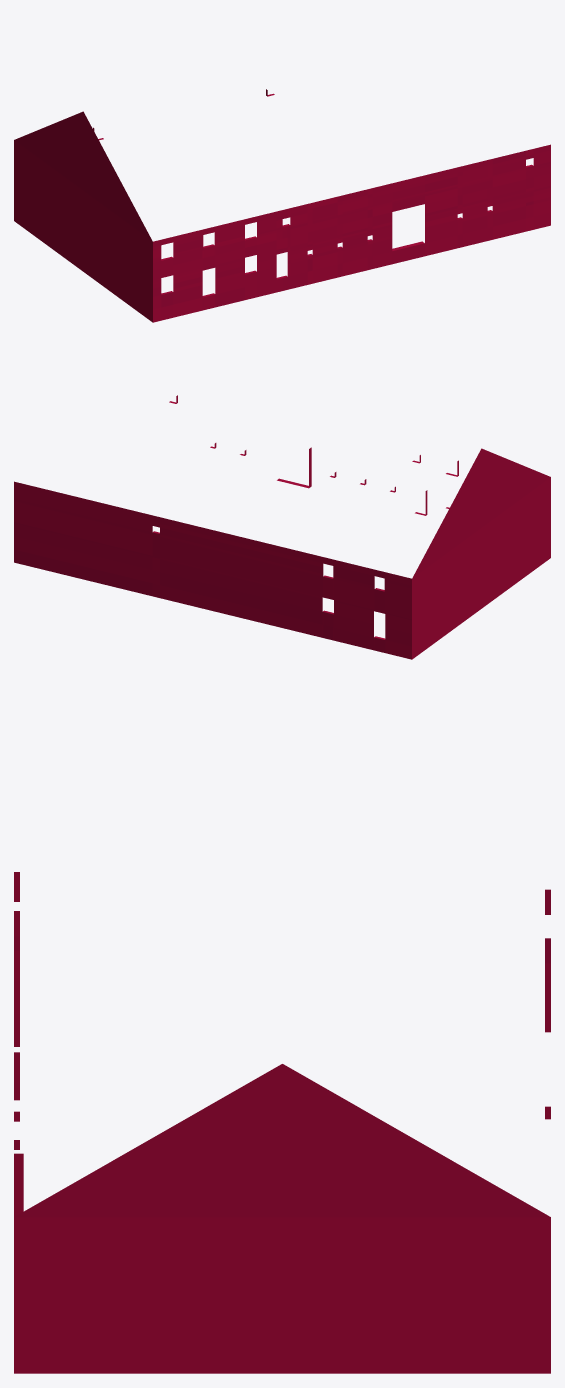
The model's file is SM_Bld_166_Masonry.glb.
3 renders of one model, top to bottom at view 1: azimuth 30°, elevation 25°; view 2: azimuth 150°, elevation 25°; view 3: azimuth 270°, elevation 25°, orthographic. The views are drawn at different scales.
Parts seen in each view (by area): view 1: SM_Bld_166_Masonry; view 2: SM_Bld_166_Masonry; view 3: SM_Bld_166_Masonry.
Boxes of the visible parts, x1,y1,x2,y2 form: SM_Bld_166_Masonry: (14,89,550,322); SM_Bld_166_Masonry: (14,395,550,659); SM_Bld_166_Masonry: (14,872,550,1373).
Bounding box in the file's own units: 31.88 × 12.28 × 19.27.
